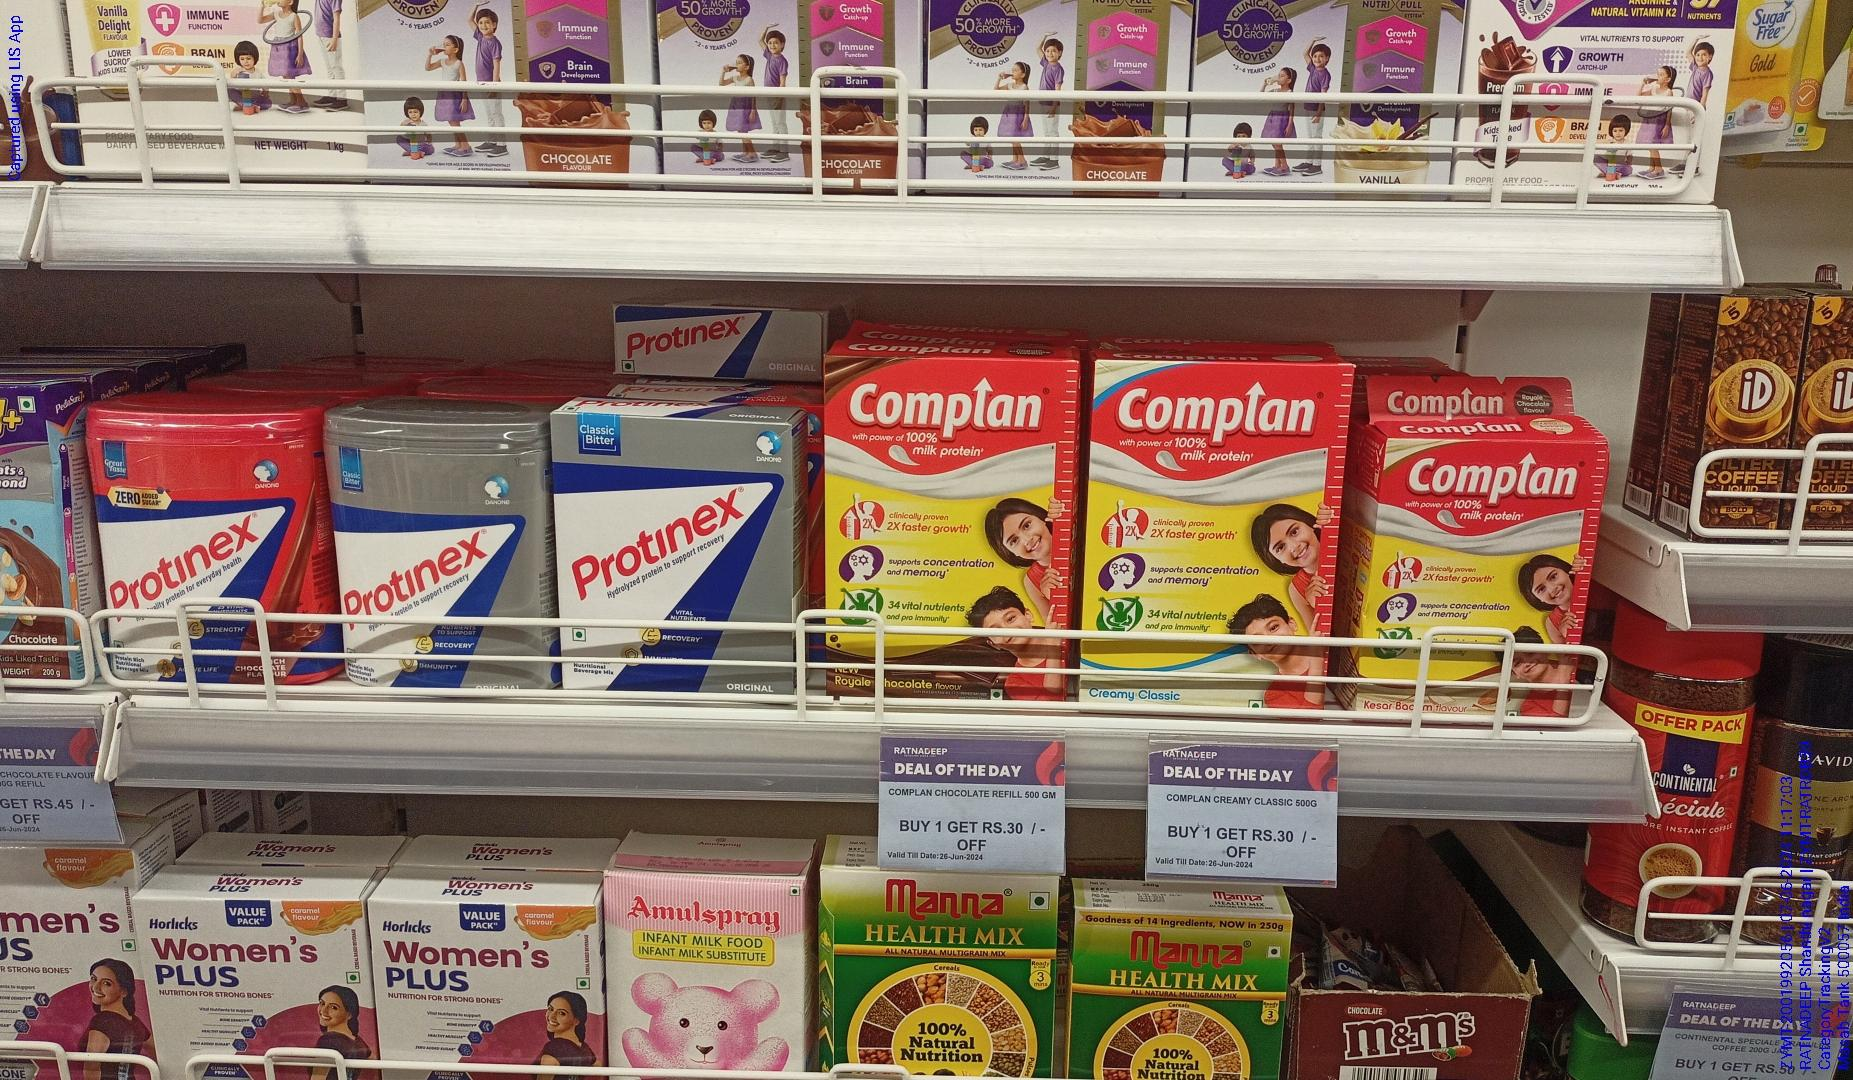PROTINEX_CHOCOLATE_400_G_JAR: (82, 405, 330, 683)
PROTINEX_ORIGINAL_400_G_JAR: (329, 415, 556, 699)
